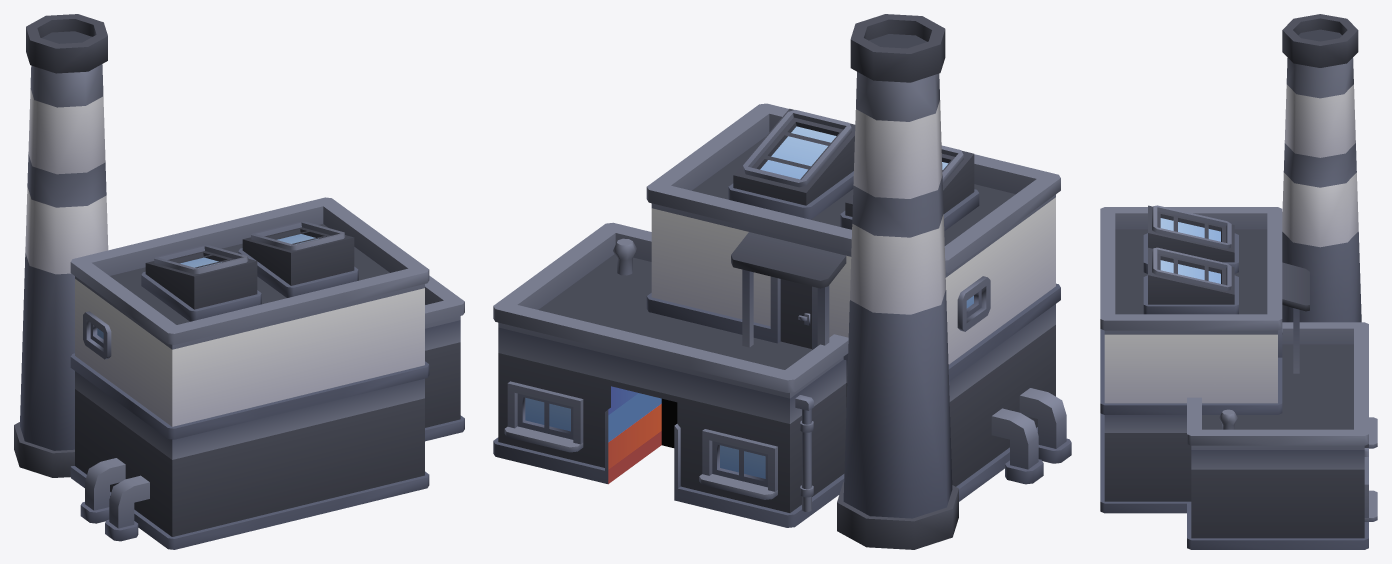
Rendered from building-f-enterable.glb.
3 renders of one model, left to right at view 1: azimuth 30°, elevation 25°; view 2: azimuth 150°, elevation 25°; view 3: azimuth 270°, elevation 25°, orthographic. The views are drawn at different scales.
Parts seen in each view (by area): view 1: building-f-enterable; view 2: building-f-enterable; view 3: building-f-enterable.
Part boxes in pixels (x1,y1,x2,y2): building-f-enterable: (14,14,464,549); building-f-enterable: (493,14,1071,549); building-f-enterable: (1100,14,1377,549).
Bounding box in the file's own units: 1.79 × 1.92 × 1.28.
1 material, 1 textured.
